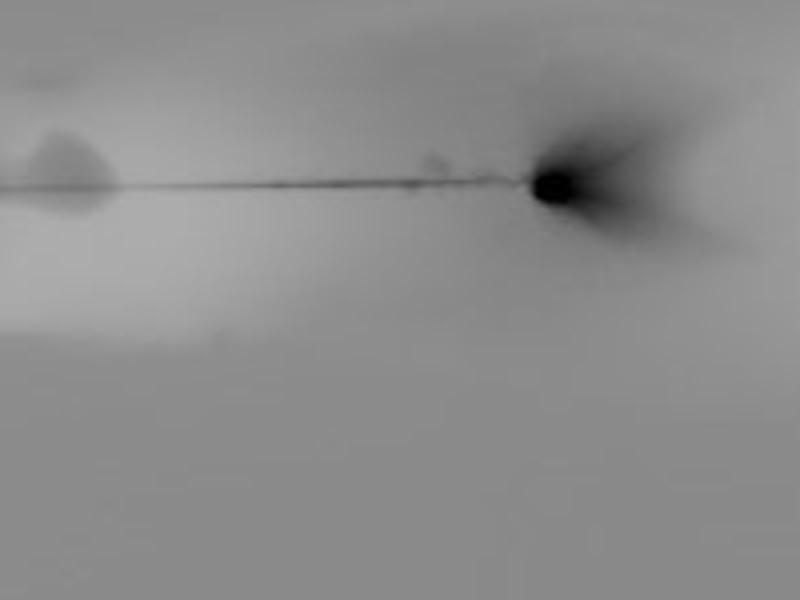defect: (20, 135, 103, 218), (532, 161, 587, 206)
